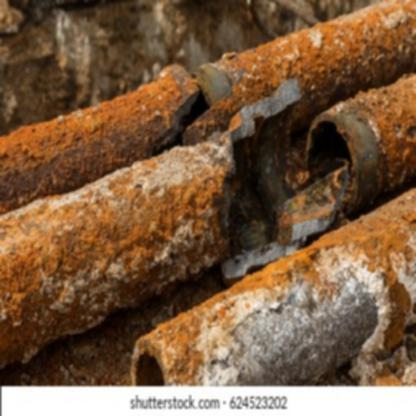burst: (203, 110, 363, 250)
